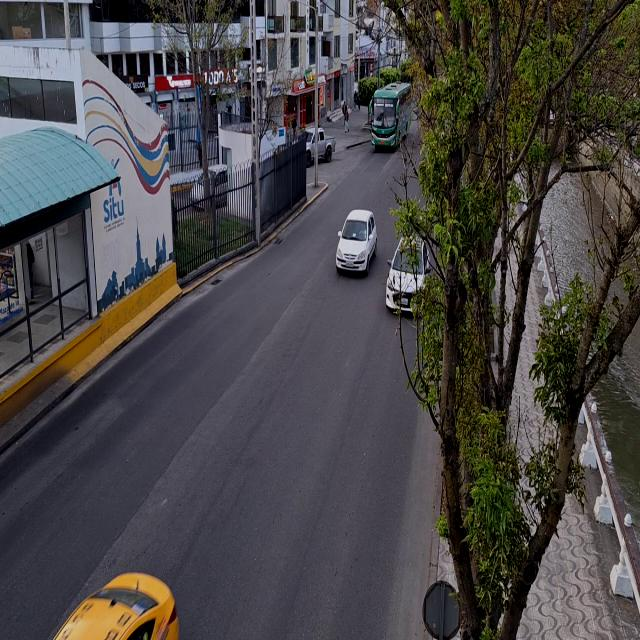BUS: (368, 86, 408, 152)
SED: (336, 212, 376, 274)
